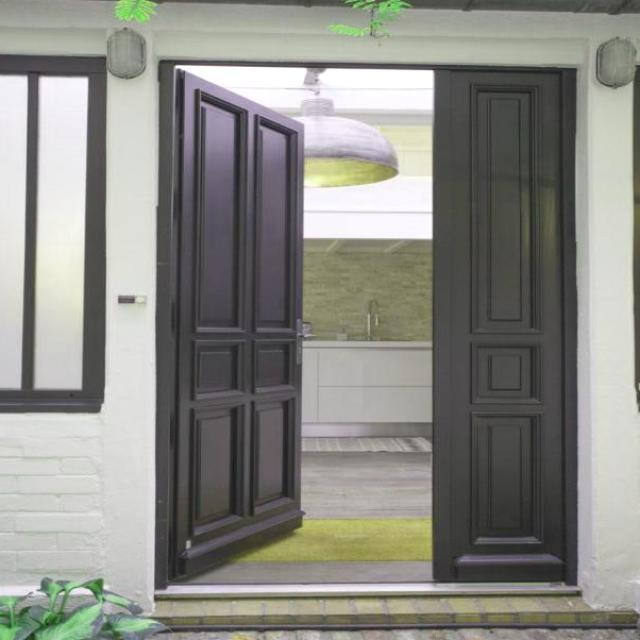door: (168, 69, 305, 579)
